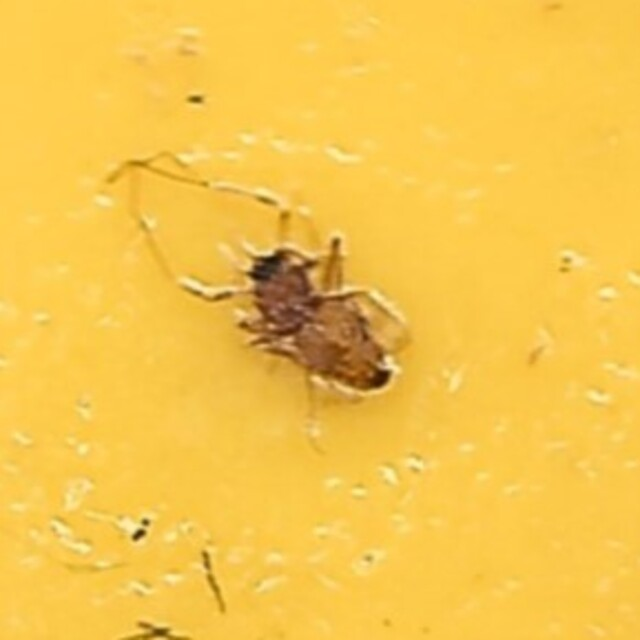Nematocera: (221, 219, 419, 421)
